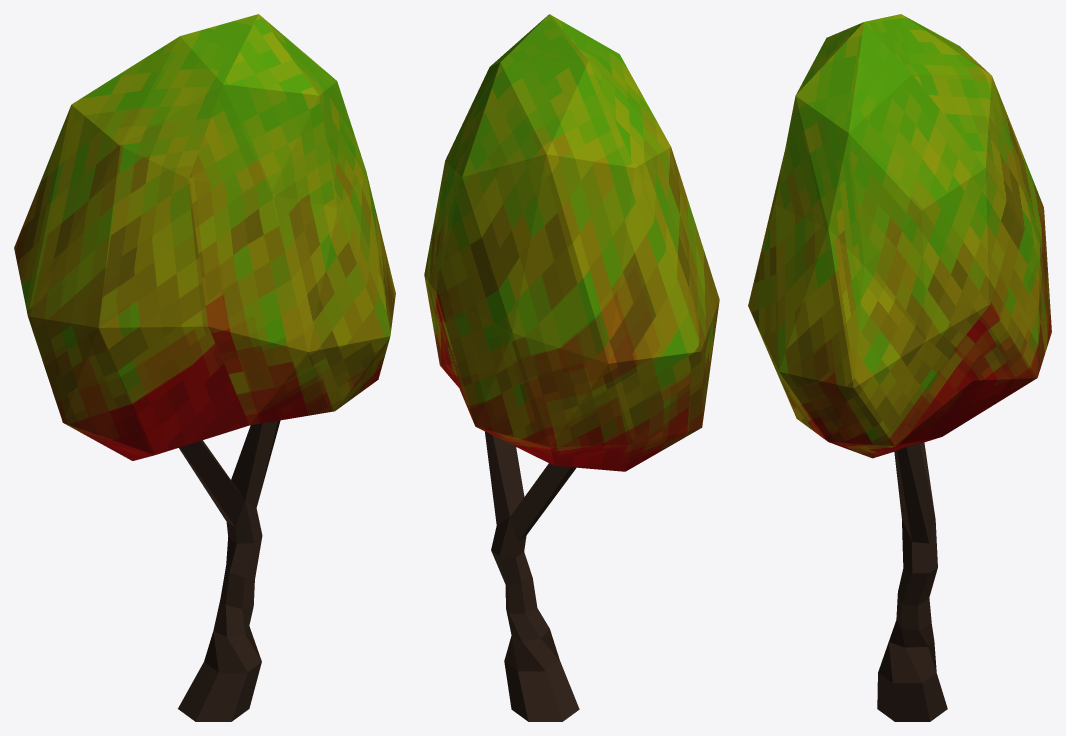
File: tree2gree.glb
The picture shows the model from 3 angles, left to right: view 1: azimuth 30°, elevation 25°; view 2: azimuth 150°, elevation 25°; view 3: azimuth 270°, elevation 25°; orthographic projection. The views are drawn at different scales.
Parts seen in each view (by area): view 1: Icosphere, Cylinder; view 2: Icosphere, Cylinder; view 3: Icosphere, Cylinder.
Boxes of the visible parts, x1,y1,x2,y2 form: Icosphere: (14,14,395,460); Cylinder: (178,420,280,721); Icosphere: (424,14,719,471); Cylinder: (485,431,579,721); Icosphere: (748,14,1051,458); Cylinder: (877,442,947,721).
Size of the model in its own units: 10.54 by 21.81 by 8.62.
Materials: 2 (1 with a texture image).
